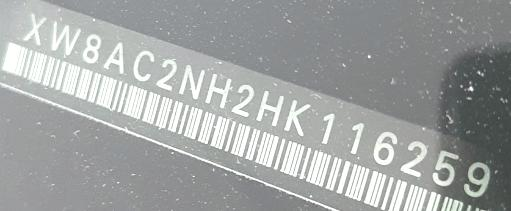letter: (254, 88, 285, 127), (50, 19, 81, 56), (283, 98, 312, 137), (399, 140, 428, 179), (431, 149, 459, 188), (203, 71, 232, 108), (178, 63, 206, 100), (463, 161, 491, 198), (371, 128, 397, 166), (21, 11, 48, 47), (102, 39, 127, 75), (231, 82, 256, 117), (154, 57, 178, 93), (132, 48, 155, 82), (81, 31, 103, 64), (320, 111, 337, 146), (348, 120, 364, 156)
